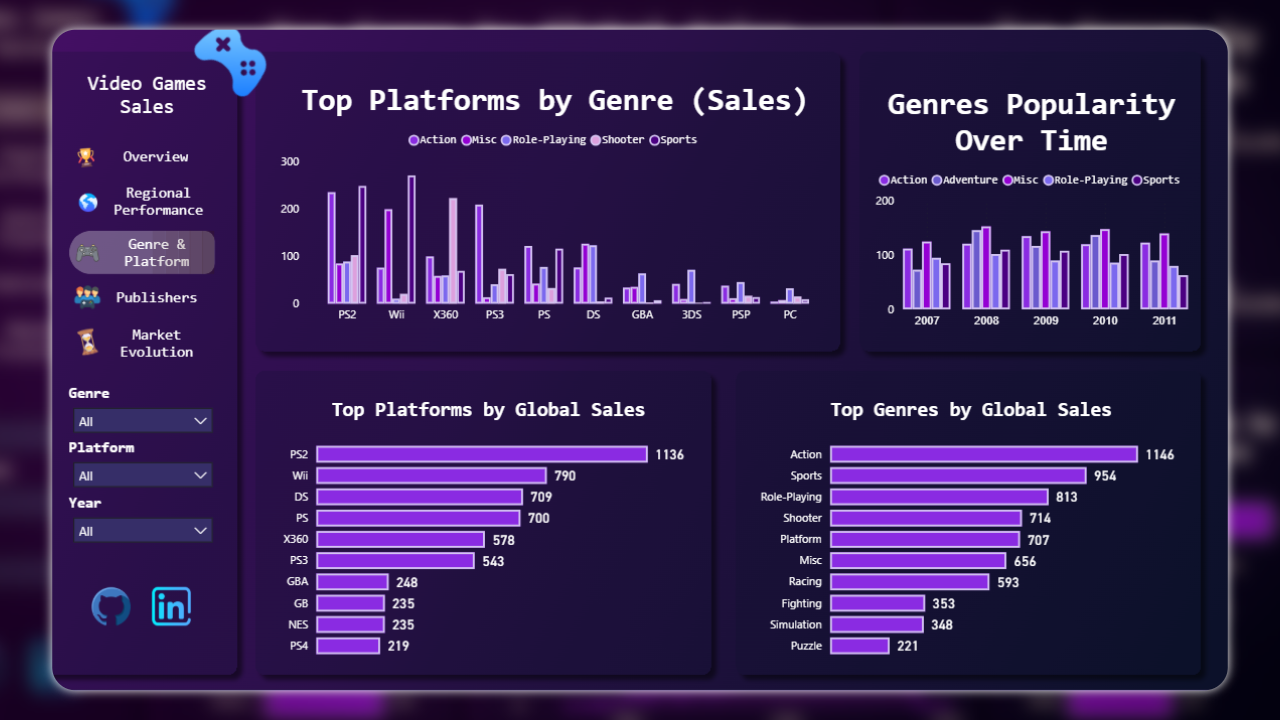

This screenshot's page, from the dashboard's own definition file:
{"tool":"powerbi","page":{"name":"Genre & Platform","canvas":[1280,720],"ordinal":2},"visuals":[{"type":"lineClusteredColumnComboChart","title":"Top Platforms by Genre (Sales)","fields":{"Category":["vgsales.Platform"],"Y":["vgsales.Total Global Sales"],"Series":["vgsales.Genre"]},"box":[233.5,43.6,625.3,295.7],"z":0},{"type":"clusteredBarChart","title":"Top Platforms by Global Sales","fields":{"Category":["vgsales.Platform"],"Y":["vgsales.Total Global Sales"]},"box":[233.5,386.3,481.2,317.5],"z":1000},{"type":"clusteredBarChart","title":"Top Genres by Global Sales","fields":{"Category":["vgsales.Genre"],"Y":["vgsales.Total Global Sales"]},"box":[747.5,386.3,499.8,317.5],"z":2000},{"type":"shape","box":[10.3,25.8,188.4,94.2],"z":3000},{"type":"image","box":[11,109.1,54.2,64.5],"z":4000},{"type":"shape","box":[33.5,205.2,161.3,77.4],"z":5000},{"type":"image","box":[11.6,215.5,55.5,59.4],"z":6000},{"type":"shape","box":[32.9,109.1,161.3,60.6],"z":7000},{"type":"shape","box":[3.9,205.2,188.4,77.4],"z":8000},{"type":"shape","box":[148.4,205.2,43.9,77.4],"z":9000},{"type":"shape","box":[135.5,205.2,43.9,77.4],"z":10000},{"type":"shape","box":[123.3,205.1,42.6,77.5],"z":11000},{"type":"shape","box":[109.1,205.1,43.6,77.5],"z":12000},{"type":"shape","box":[94.9,205.1,43.6,77.5],"z":13000},{"type":"image","box":[14.2,165.2,51.6,50.3],"z":14000},{"type":"shape","box":[33.5,149.7,165.2,78.7],"z":15000},{"type":"shape","box":[33.5,262.2,161.5,61.1],"z":16000},{"type":"shape","box":[33.5,301.9,161.3,80],"z":17000},{"type":"image","box":[10.3,261.9,59.4,60.6],"z":18000},{"type":"image","box":[9,309.7,61.9,61.9],"z":19000},{"type":"slicer","title":"Genre","fields":{"Values":["vgsales.Genre"]},"box":[14.2,386.7,165.7,58.4],"z":20000},{"type":"slicer","title":"Platform","fields":{"Values":["vgsales.Platform"]},"box":[14.2,445.1,165.7,60],"z":21000},{"type":"slicer","title":"Year","fields":{"Values":["vgsales.Year"]},"box":[14.2,505.1,165.7,60],"z":22000},{"type":"image","box":[88.4,591.4,84,72],"z":23000},{"type":"image","box":[25.1,591.4,80.8,72],"z":24000},{"type":"actionButton","box":[16.8,165.2,165.2,50.3],"z":25000},{"type":"actionButton","box":[21.9,116.1,165.2,50.3],"z":26000},{"type":"actionButton","box":[12.9,267.1,165.2,50.3],"z":27000},{"type":"actionButton","box":[14.2,317.4,165.2,50.3],"z":28000},{"type":"lineClusteredColumnComboChart","title":"Genres Popularity Over Time","fields":{"Series":["vgsales.Genre"],"Category":["vgsales.Year"],"Y":["vgsales.No. of Games"]},"box":[878.7,47.7,369,295.5],"z":29000}]}

Visuals, with their boxes in screenshot pixels (x1, y1, x2, y2), scaled from the page's 1280x720 canvas onto the 1280x720 screenshot:
"Top Platforms by Genre (Sales)" lineClusteredColumnComboChart: x1=234 y1=44 x2=859 y2=339
"Top Platforms by Global Sales" clusteredBarChart: x1=234 y1=386 x2=715 y2=704
"Top Genres by Global Sales" clusteredBarChart: x1=748 y1=386 x2=1247 y2=704
shape: x1=10 y1=26 x2=199 y2=120
image: x1=11 y1=109 x2=65 y2=174
shape: x1=34 y1=205 x2=195 y2=283
image: x1=12 y1=216 x2=67 y2=275
shape: x1=33 y1=109 x2=194 y2=170
shape: x1=4 y1=205 x2=192 y2=283
shape: x1=148 y1=205 x2=192 y2=283
shape: x1=136 y1=205 x2=179 y2=283
shape: x1=123 y1=205 x2=166 y2=283
shape: x1=109 y1=205 x2=153 y2=283
shape: x1=95 y1=205 x2=138 y2=283
image: x1=14 y1=165 x2=66 y2=216
shape: x1=34 y1=150 x2=199 y2=228
shape: x1=34 y1=262 x2=195 y2=323
shape: x1=34 y1=302 x2=195 y2=382
image: x1=10 y1=262 x2=70 y2=322
image: x1=9 y1=310 x2=71 y2=372
"Genre" slicer: x1=14 y1=387 x2=180 y2=445
"Platform" slicer: x1=14 y1=445 x2=180 y2=505
"Year" slicer: x1=14 y1=505 x2=180 y2=565
image: x1=88 y1=591 x2=172 y2=663
image: x1=25 y1=591 x2=106 y2=663
actionButton: x1=17 y1=165 x2=182 y2=216
actionButton: x1=22 y1=116 x2=187 y2=166
actionButton: x1=13 y1=267 x2=178 y2=317
actionButton: x1=14 y1=317 x2=179 y2=368
"Genres Popularity Over Time" lineClusteredColumnComboChart: x1=879 y1=48 x2=1248 y2=343
